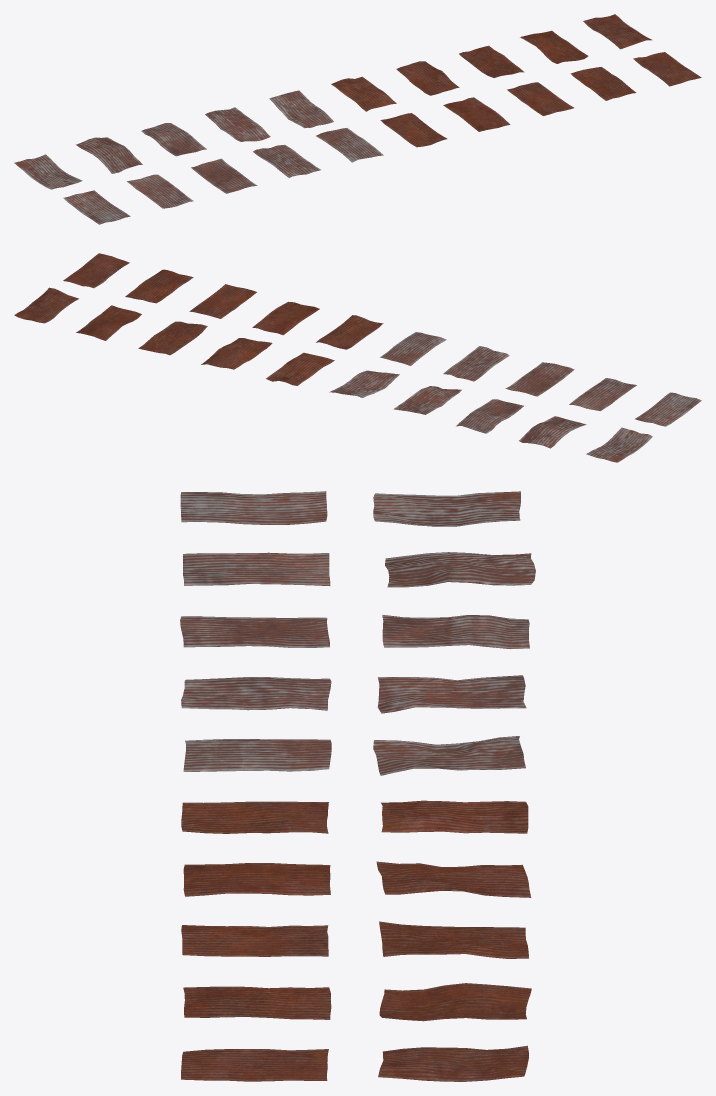
File: rusted-sheet.glb
3 renders of one model, top to bottom at view 1: azimuth 30°, elevation 25°; view 2: azimuth 150°, elevation 25°; view 3: azimuth 270°, elevation 25°, orthographic. The views are drawn at different scales.
Parts seen in each view (by area): view 1: sheet_15, sheet_18, sheet_16, sheet_19, sheet_3, sheet_13, sheet_4, sheet_7, sheet_14, sheet_5, sheet_8, sheet_9 (+8 smaller); view 2: sheet_12, sheet_7, sheet_13, sheet_17, sheet_19, sheet_1, sheet_2, sheet_0, sheet_6, sheet_9, sheet_3, sheet_14 (+8 smaller); view 3: sheet_11, sheet_8, sheet_5, sheet_10, sheet_16, sheet_6, sheet_0, sheet_1, sheet_14, sheet_4, sheet_18, sheet_3 (+8 smaller).
Boxes of the visible parts, x1,y1,x2,y2 form: sheet_15: (269, 90, 333, 128); sheet_18: (76, 137, 142, 173); sheet_16: (205, 107, 270, 141); sheet_19: (14, 154, 82, 189); sheet_3: (443, 97, 510, 131); sheet_13: (396, 61, 459, 95); sheet_4: (380, 113, 447, 147); sheet_7: (191, 158, 257, 193); sheet_14: (331, 76, 396, 111); sheet_5: (316, 128, 383, 162); sheet_8: (127, 174, 193, 208); sheet_9: (63, 190, 130, 224); sheet_12: (138, 321, 207, 355); sheet_7: (505, 362, 574, 396); sheet_13: (201, 338, 272, 369); sheet_17: (456, 399, 523, 433); sheet_19: (586, 427, 652, 462); sheet_1: (125, 269, 193, 303); sheet_2: (189, 284, 256, 318); sheet_0: (63, 253, 129, 288); sheet_6: (443, 346, 509, 381); sheet_9: (635, 392, 701, 426); sheet_3: (252, 301, 319, 335); sheet_14: (266, 352, 334, 385); sheet_11: (379, 983, 531, 1021); sheet_8: (183, 552, 330, 585); sheet_5: (183, 739, 331, 771); sheet_10: (378, 1045, 528, 1081); sheet_16: (377, 675, 526, 713); sheet_6: (181, 677, 331, 710); sheet_0: (181, 1049, 328, 1081); sheet_1: (183, 986, 331, 1019); sheet_14: (381, 800, 528, 833); sheet_4: (181, 801, 328, 833); sheet_18: (385, 552, 535, 587); sheet_3: (183, 863, 330, 896).
Size of the model in its own units: 2 by 0.0258 by 0.5106.
Materials: 1 (1 with a texture image).
